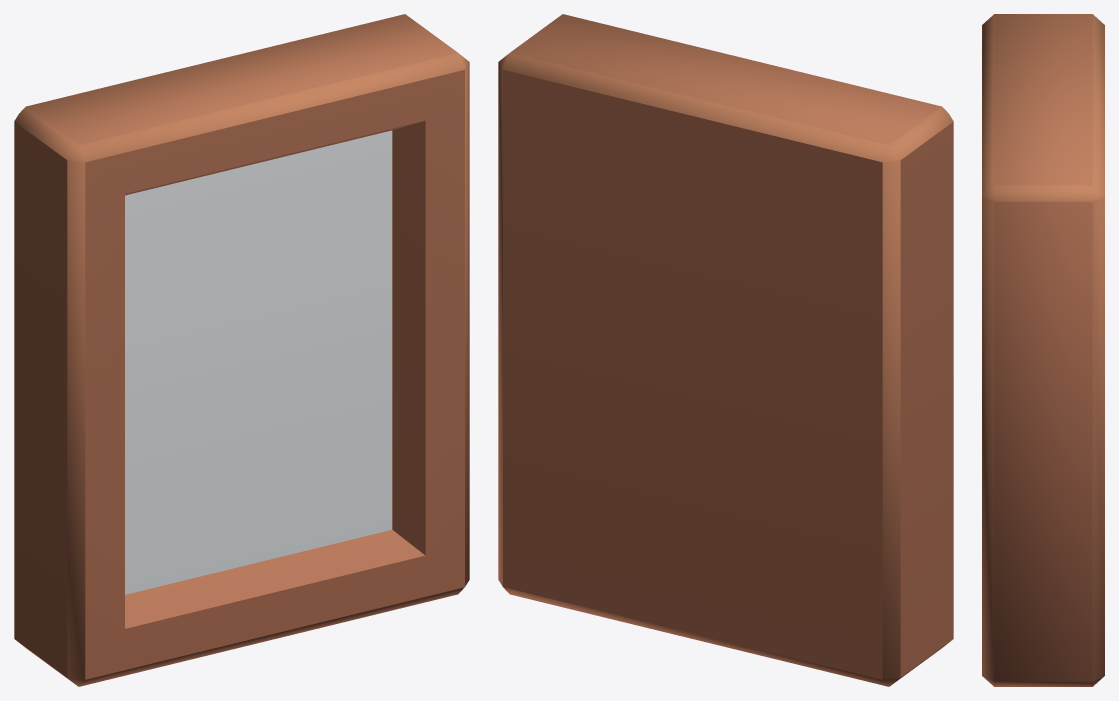
File: pictureframe_medium.glb
3 renders of one model, left to right at view 1: azimuth 30°, elevation 25°; view 2: azimuth 150°, elevation 25°; view 3: azimuth 270°, elevation 25°, orthographic. The views are drawn at different scales.
Visible parts, largest first — view 1: pictureframe_medium; view 2: pictureframe_medium; view 3: pictureframe_medium.
Part boxes in pixels (x1,y1,x2,y2): pictureframe_medium: [14, 14, 469, 686]; pictureframe_medium: [498, 14, 953, 686]; pictureframe_medium: [982, 14, 1104, 686].
Bounding box in the file's own units: 0.49 × 0.63 × 0.14.
1 material, 1 textured.
